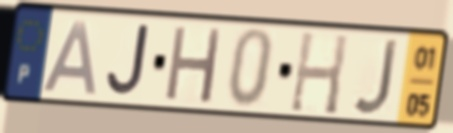0: (222, 25, 279, 113)
A: (39, 17, 100, 98)
H: (286, 28, 352, 118), (162, 22, 226, 106)
J: (350, 37, 401, 118), (103, 23, 152, 100)
